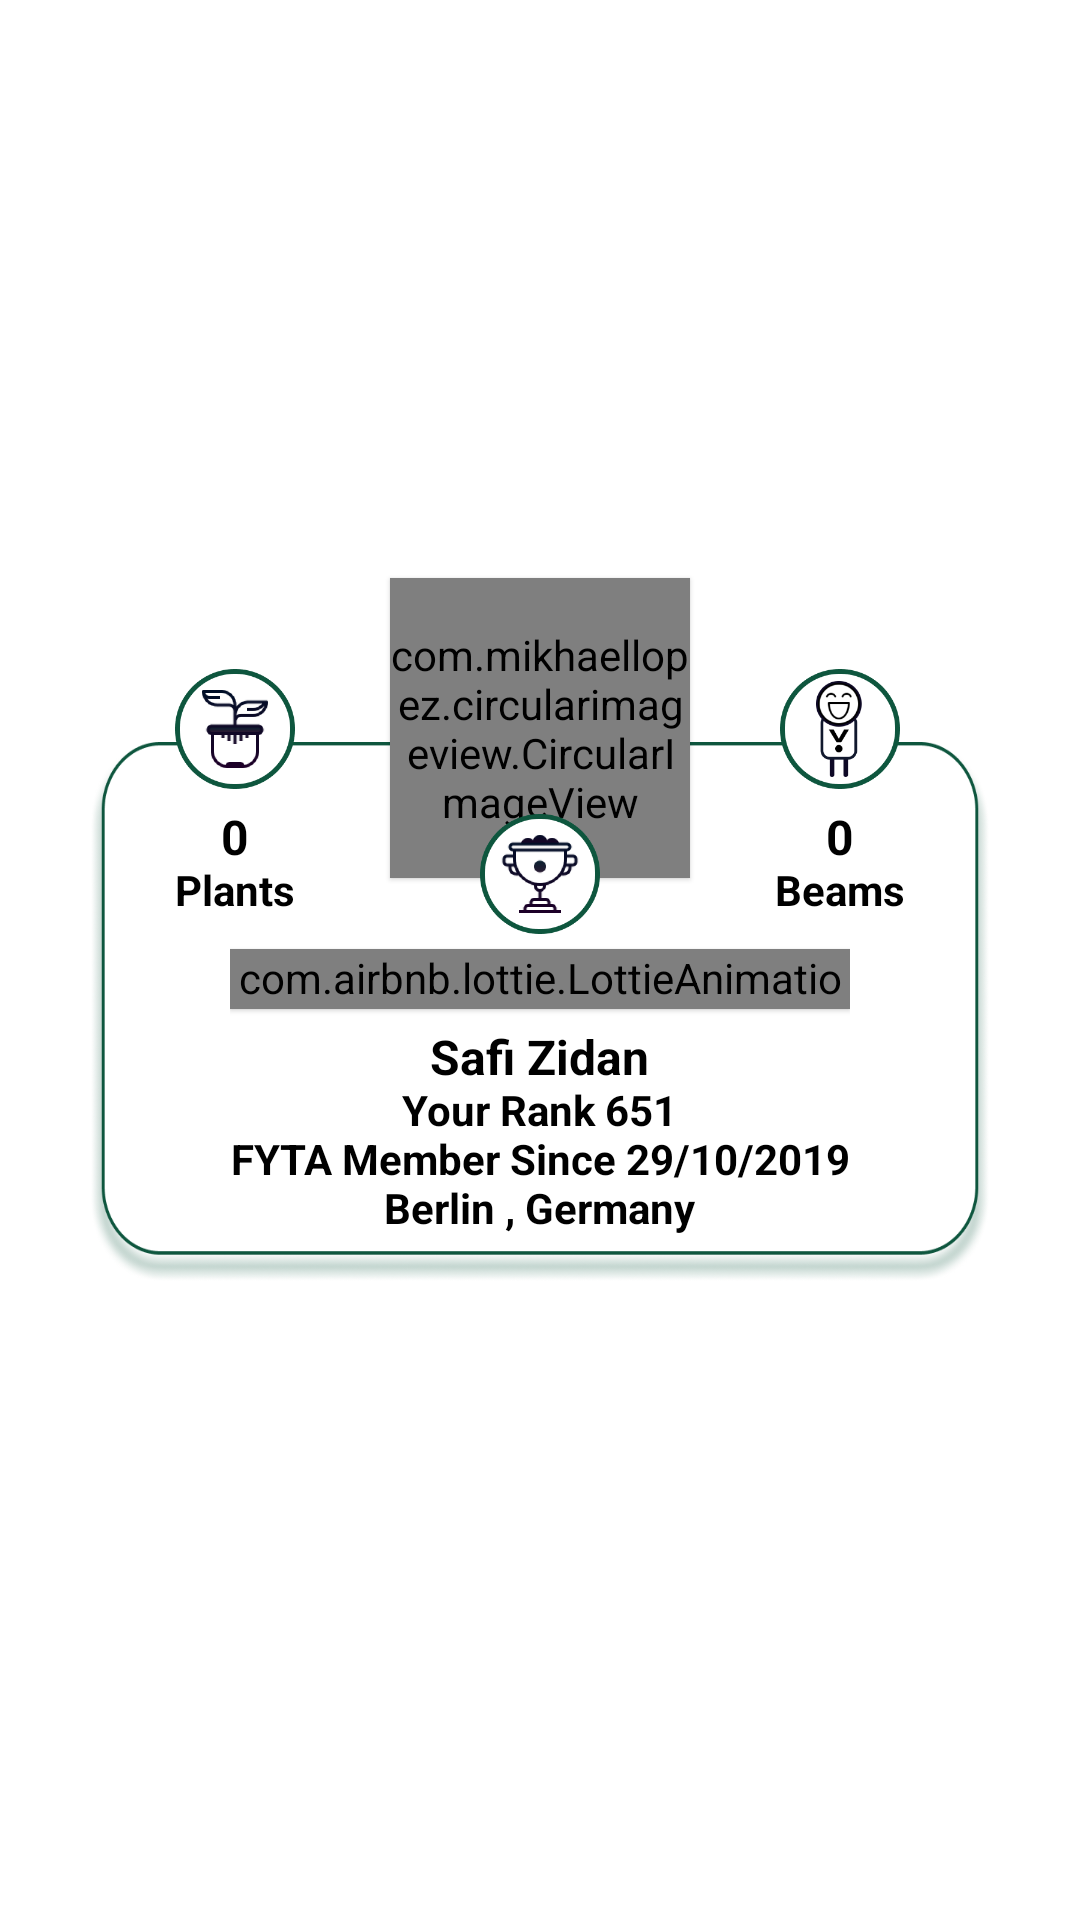

Where to tap for icons on this 1080 x 1920 app screen, as point (x, y):
plant count profile: point (235, 729)
